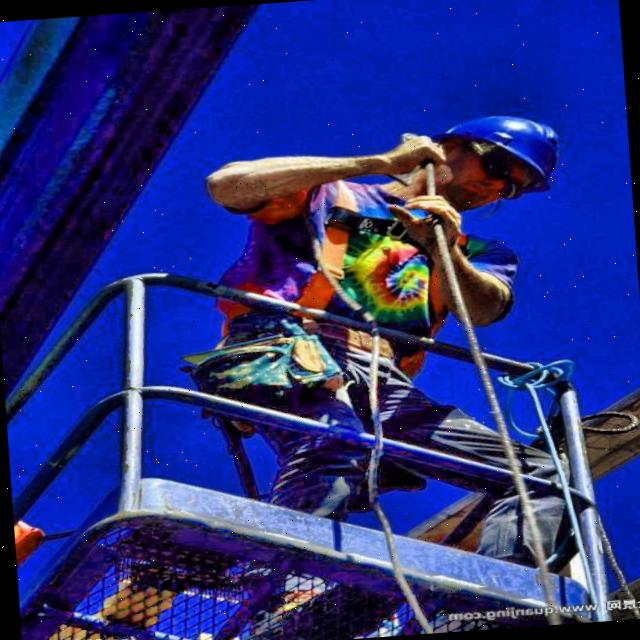helmet: (398, 100, 578, 220)
